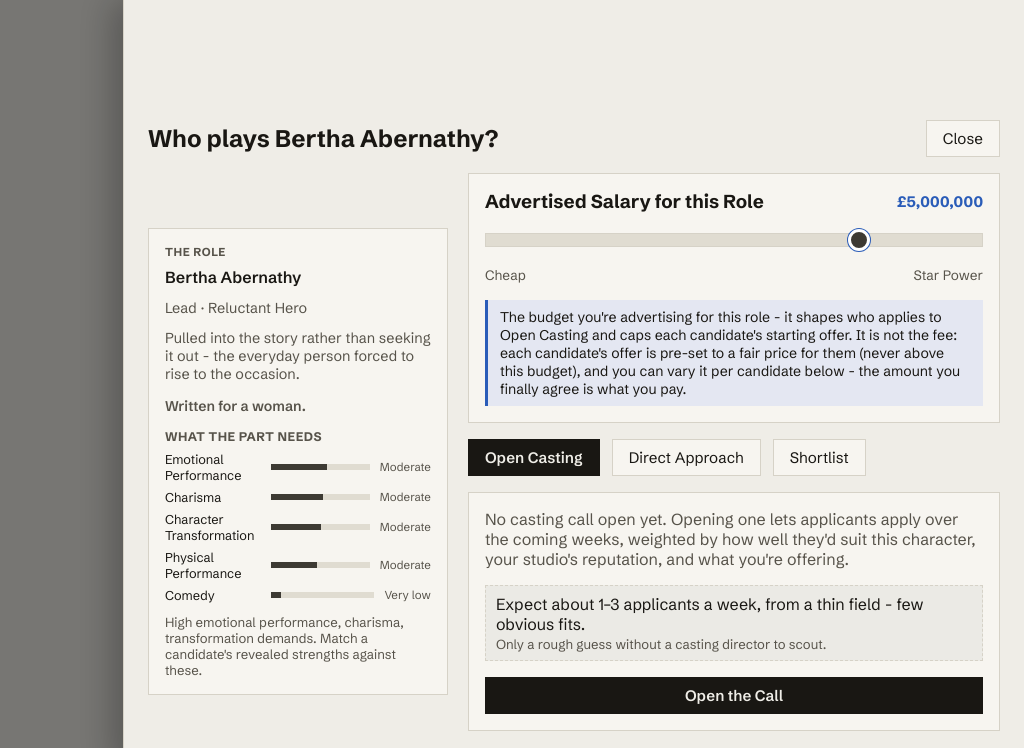
it: CastingDrawer - candidate reasoning chips › filters the Direct Approach list by a facet (gender)
Step 1. Click the button "Direct Approach" → (686, 458), box 612,439 -> 761,476
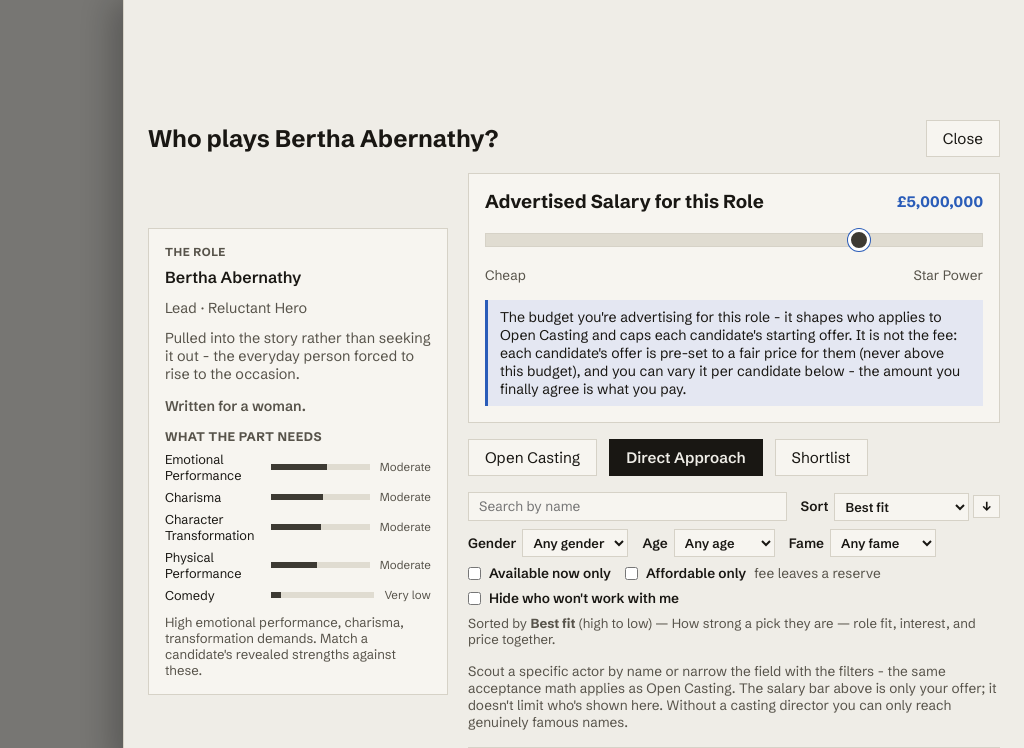
# Filter to men - both female candidates drop out.
Step 2. Select "Men" in the dropdown named "Filter by gender" → (575, 543), box 522,529 -> 628,557
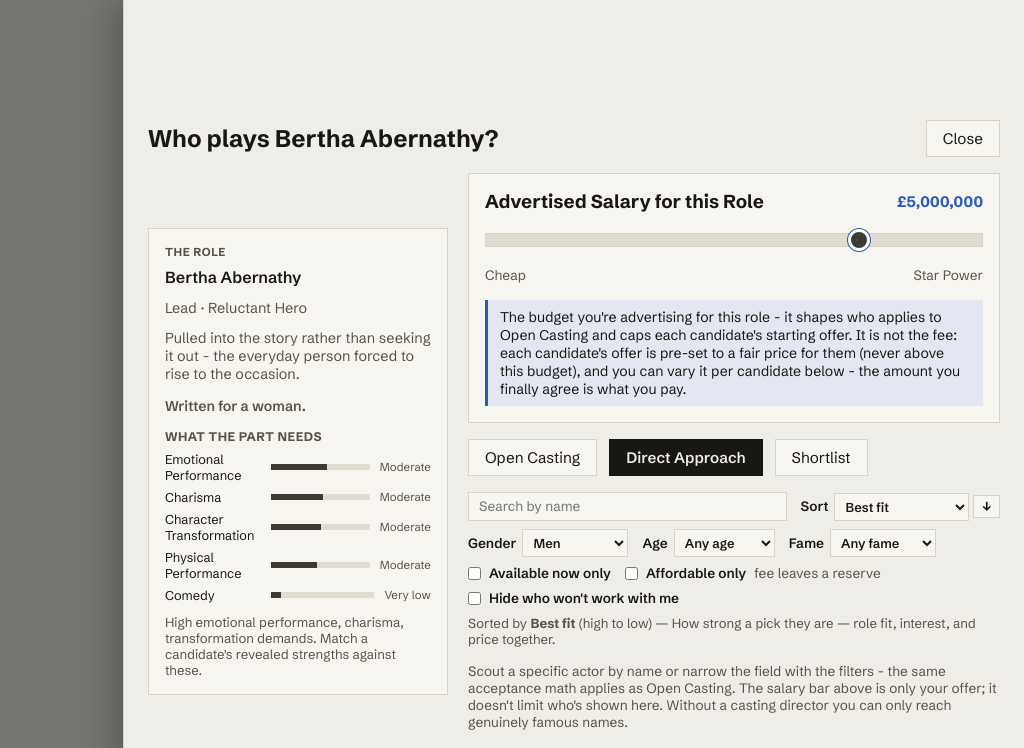
Expected: the text "Ava Affordable" is not shown
# Back to women - they return.
Step 3. Select "Women" in the dropdown named "Filter by gender" → (575, 543), box 522,529 -> 628,557
(page scrolled)
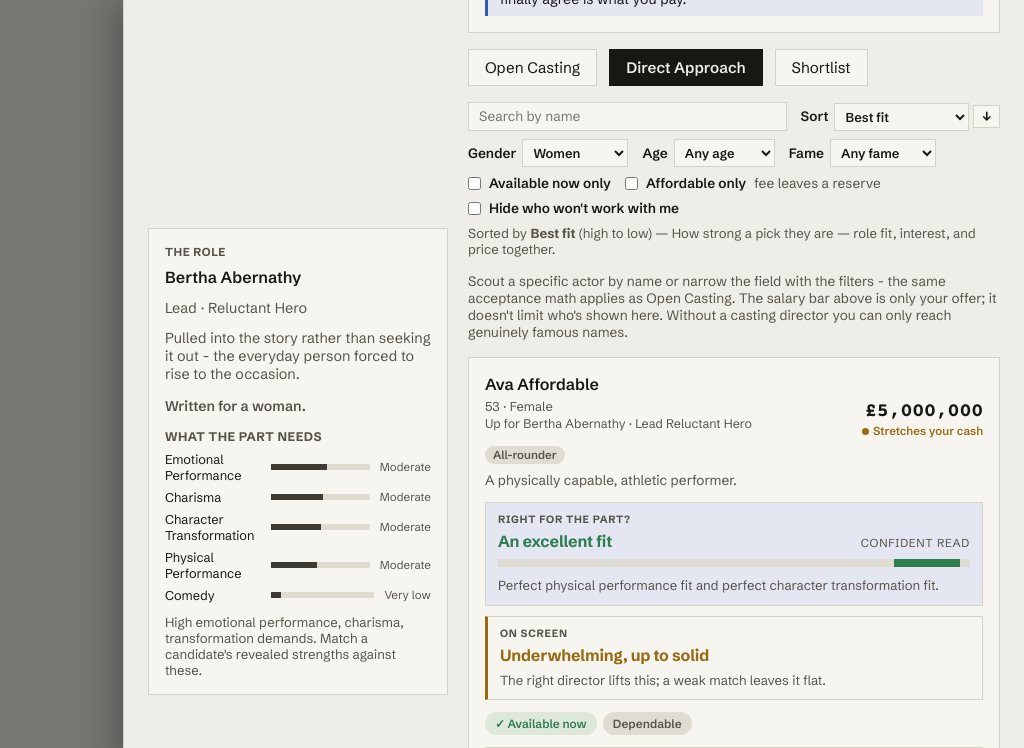
Expected: the text "Ava Affordable" is shown, 485,374 -> 599,394
